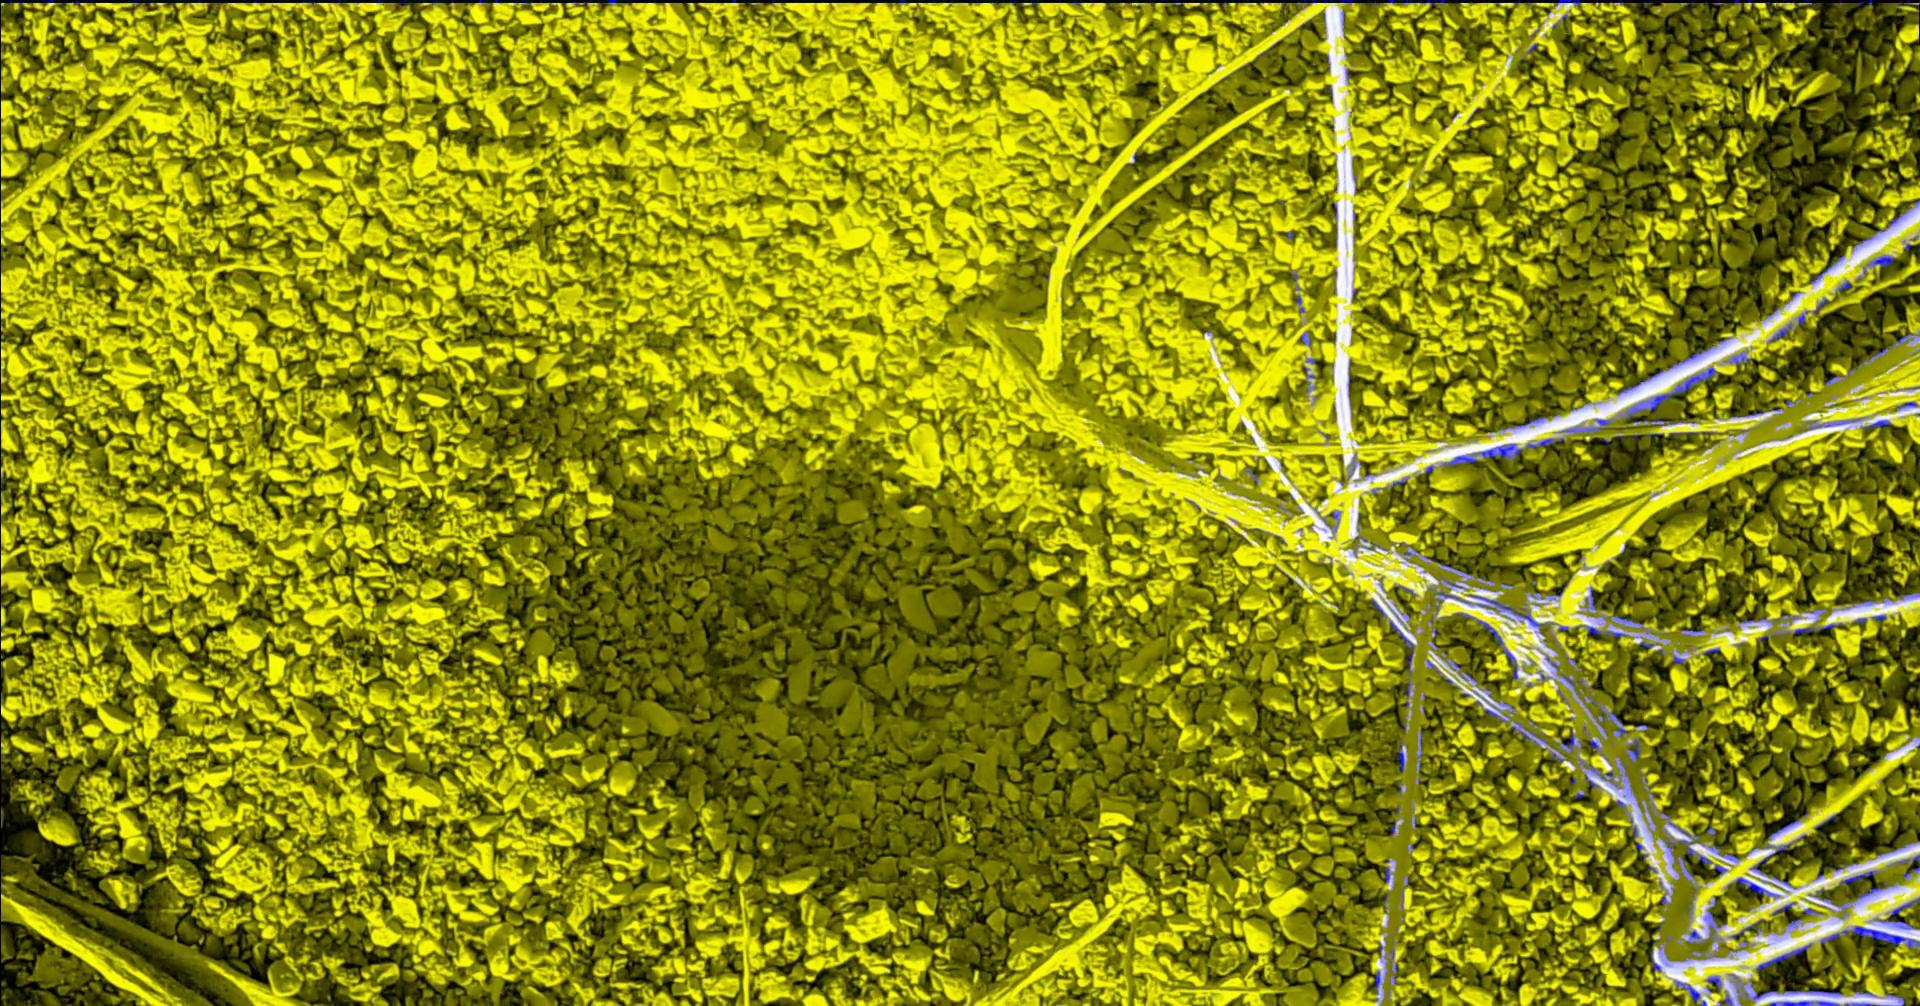ant: (1639, 367, 1716, 412), (1468, 594, 1545, 630), (1843, 926, 1919, 948), (1756, 944, 1810, 969), (1877, 898, 1919, 929), (1389, 621, 1413, 672), (1735, 876, 1773, 895), (1676, 981, 1705, 1005), (1477, 620, 1502, 645), (1625, 413, 1675, 426), (1731, 920, 1764, 937), (1481, 445, 1523, 459), (1857, 880, 1887, 898), (1839, 871, 1874, 885), (1502, 649, 1517, 680), (1665, 840, 1693, 855), (1526, 438, 1563, 448), (1770, 323, 1790, 340), (1784, 988, 1840, 995), (1444, 455, 1477, 465), (1862, 420, 1891, 429), (1872, 257, 1895, 267), (1686, 0, 1741, 4), (1397, 742, 1403, 771), (1768, 1001, 1811, 1005), (1383, 0, 1445, 3)
